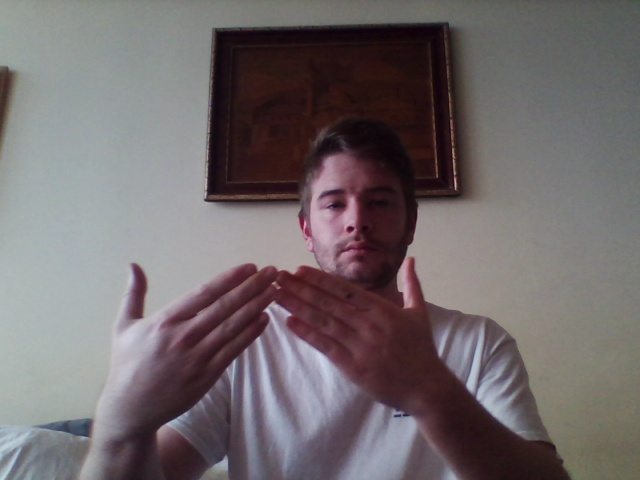hvala: (102, 254, 436, 426)
